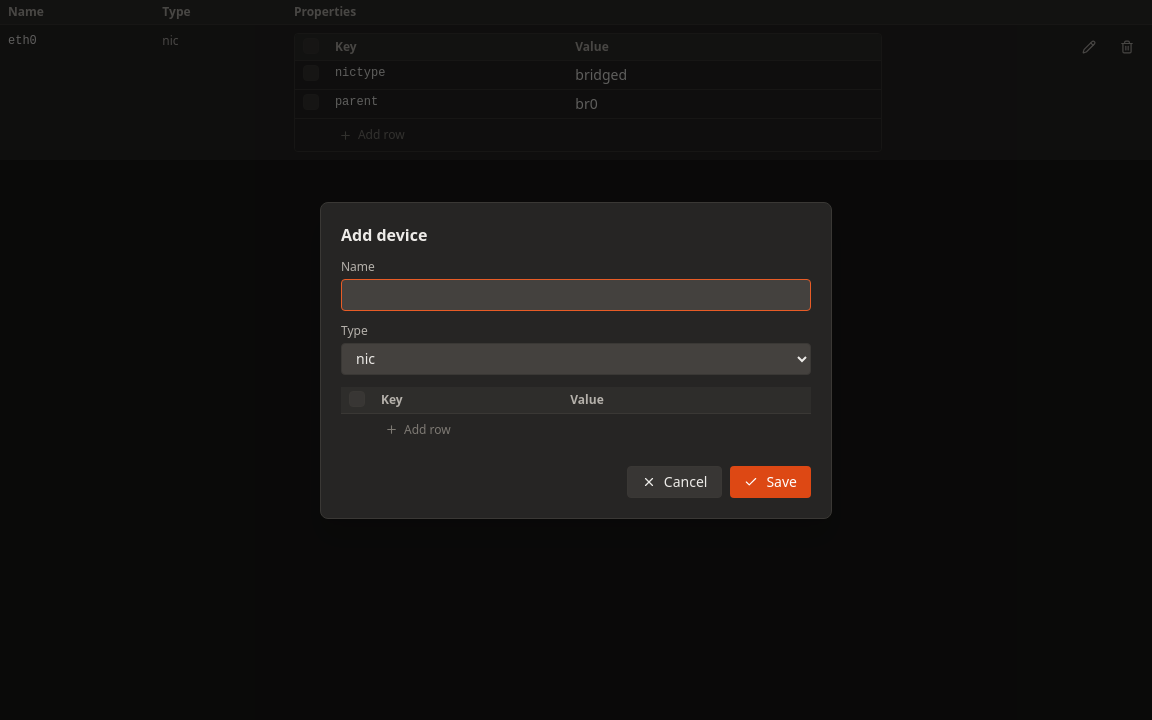
Test case: DevicesTab › validates that disk devices require pool and path
The width and height of the screenshot is (1152, 720).
Expected: the row with test id "device-row-eth0" is shown, x1=0 y1=25 x2=1151 y2=160
Type "disk1" into the field with test id "device-name".
click(576, 294); type("disk1")  # box x1=341 y1=278 x2=811 y2=310
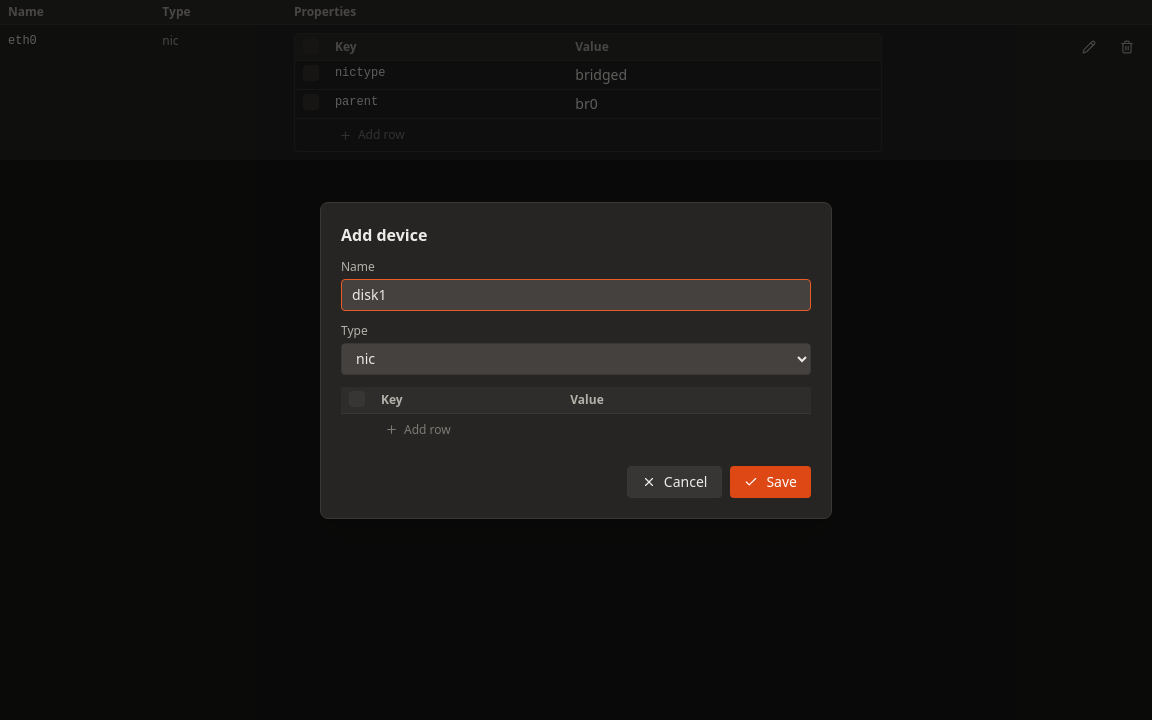
Select "disk" in the dropdown with test id "device-type" at (576, 358), box x1=341 y1=342 x2=811 y2=374
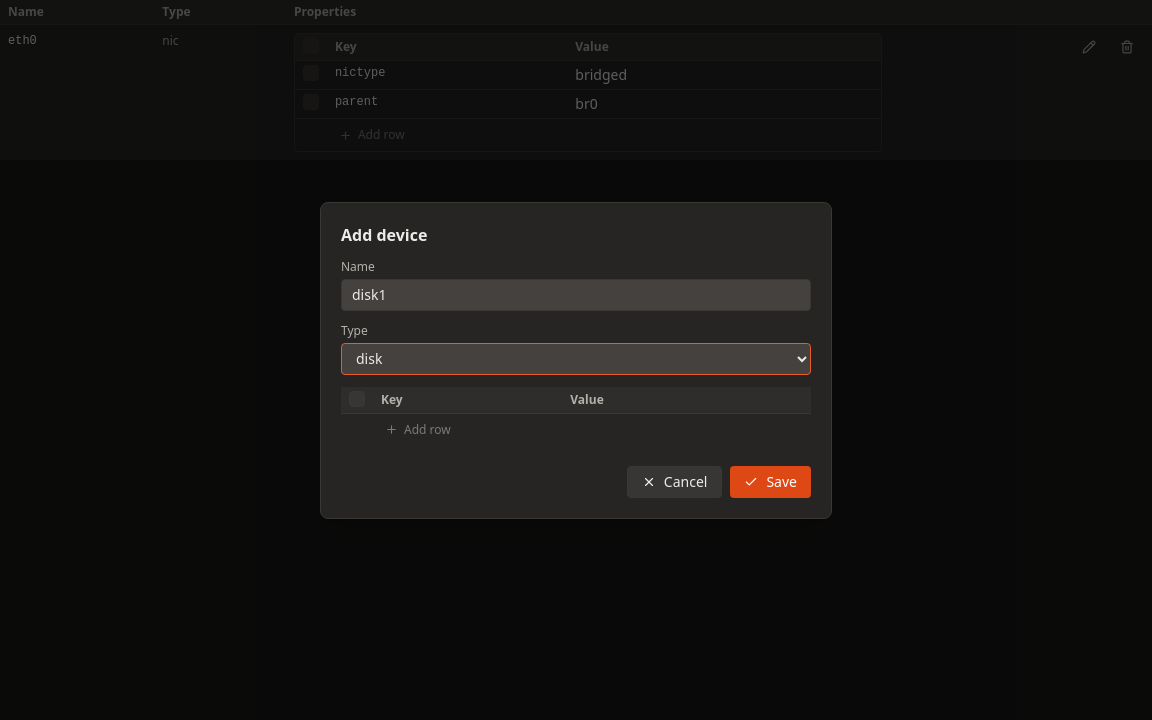
Click the button with test id "device-save".
click(771, 482)  # box x1=730 y1=466 x2=811 y2=498
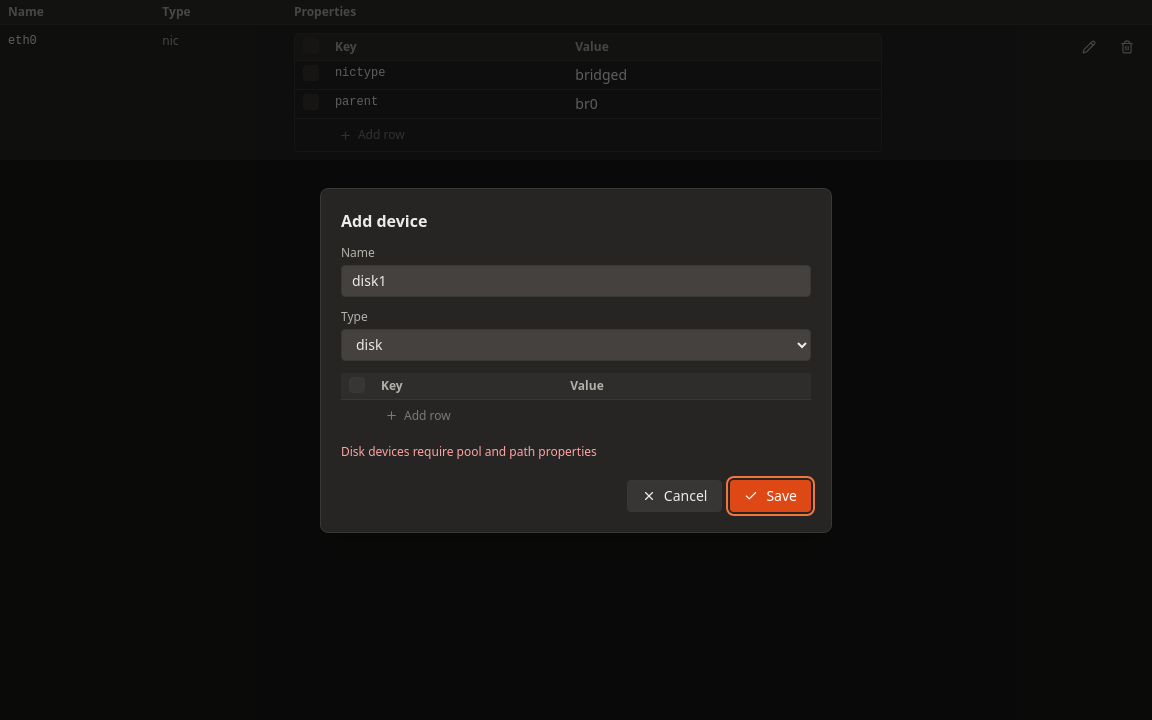
Now the text with test id "device-error" shows "pool and path", box x1=341 y1=442 x2=597 y2=460
